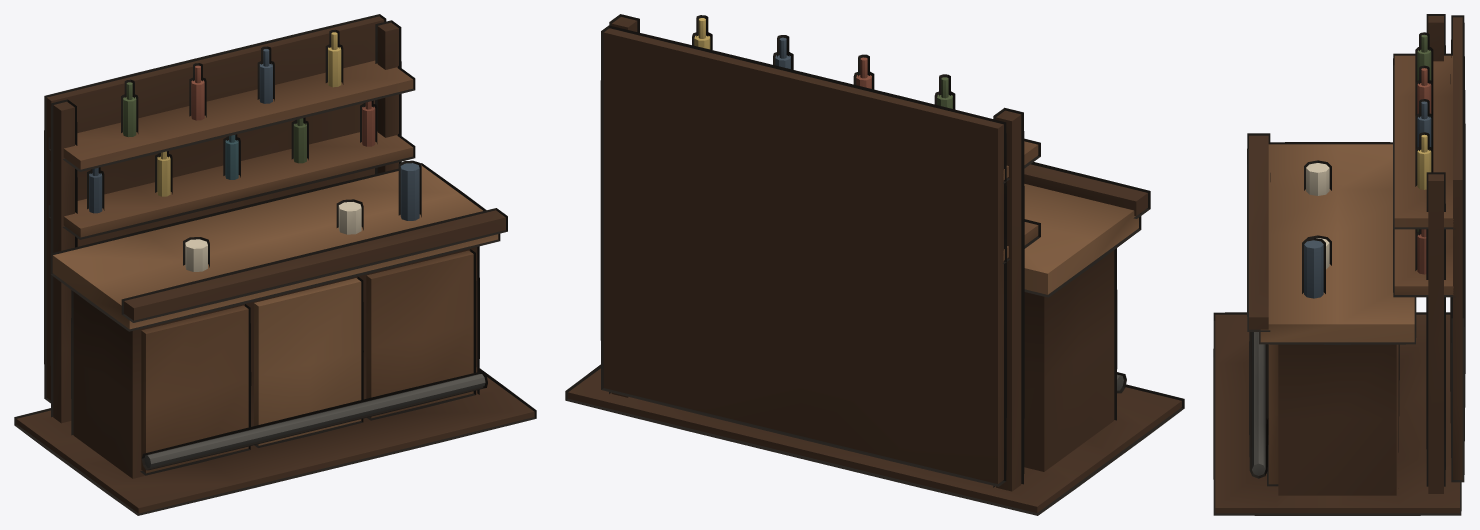
Rendered from comptoir.glb.
3 renders of one model, left to right at view 1: azimuth 30°, elevation 25°; view 2: azimuth 150°, elevation 25°; view 3: azimuth 270°, elevation 25°, orthographic. The views are drawn at different scales.
Visible parts, largest first — view 1: comptoir, comptoir_outline; view 2: comptoir, comptoir_outline; view 3: comptoir, comptoir_outline.
Boxes of the visible parts, <box> form: comptoir: <box>16,16,534,513</box>; comptoir_outline: <box>14,14,536,515</box>; comptoir: <box>568,17,1181,512</box>; comptoir_outline: <box>565,14,1184,515</box>; comptoir: <box>1215,16,1462,513</box>; comptoir_outline: <box>1213,14,1465,515</box>.
Bounding box in the file's own units: 2.34 × 1.87 × 1.28.
